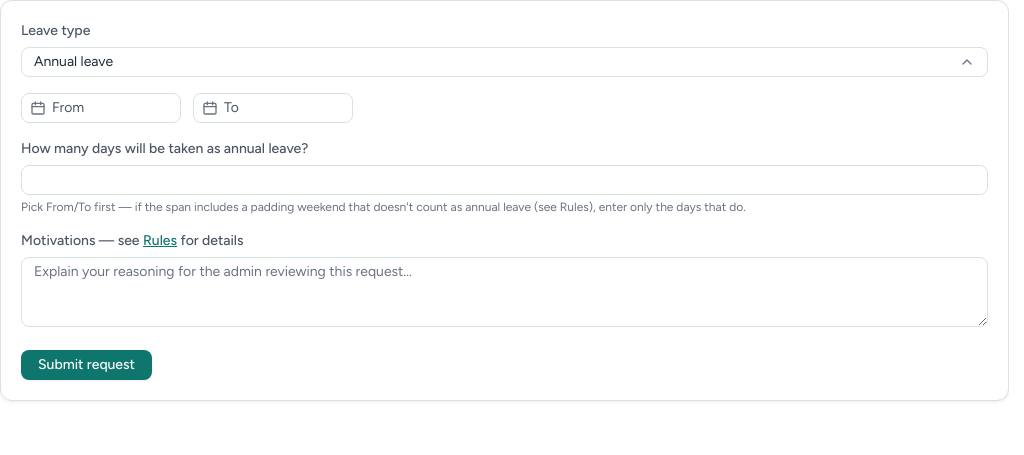
LeaveRequestForm › submits a normal annual leave request with the entered date range
Type "2026-08-10" into the date field labelled "From". click: {"x": 101, "y": 108}
box: [21,93,181,123]
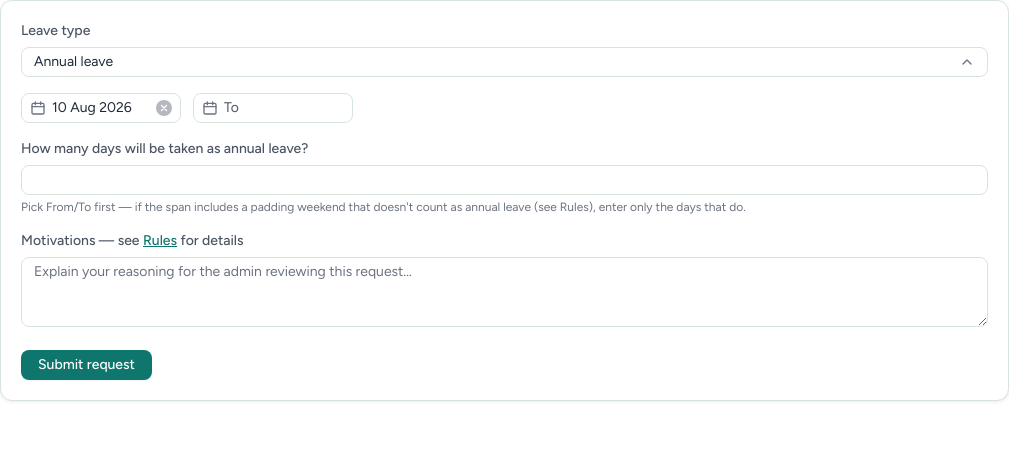
Type "2026-08-14" into the date field labelled "To". click: {"x": 273, "y": 108}
box: [193,93,353,123]
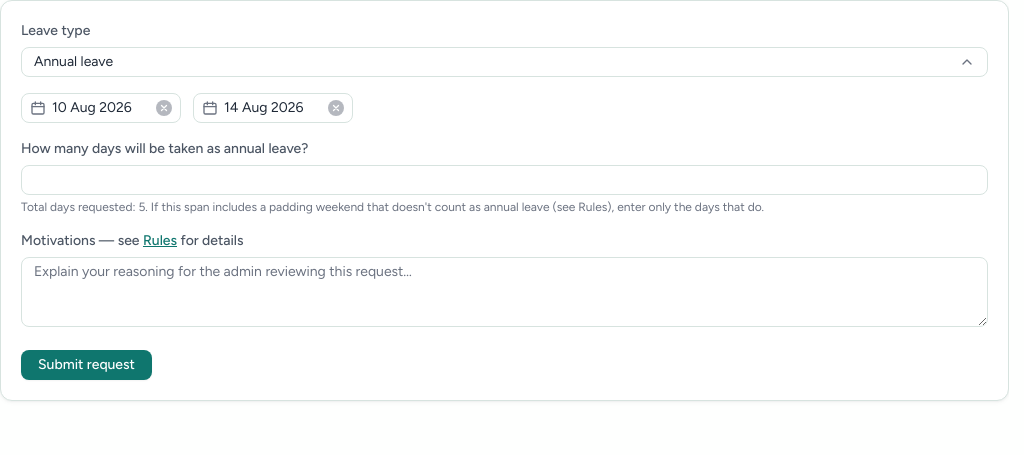
Type "5" into the number field labelled "How many days will be taken as annual leave?". click: {"x": 504, "y": 180}
box: [21,165,988,195]
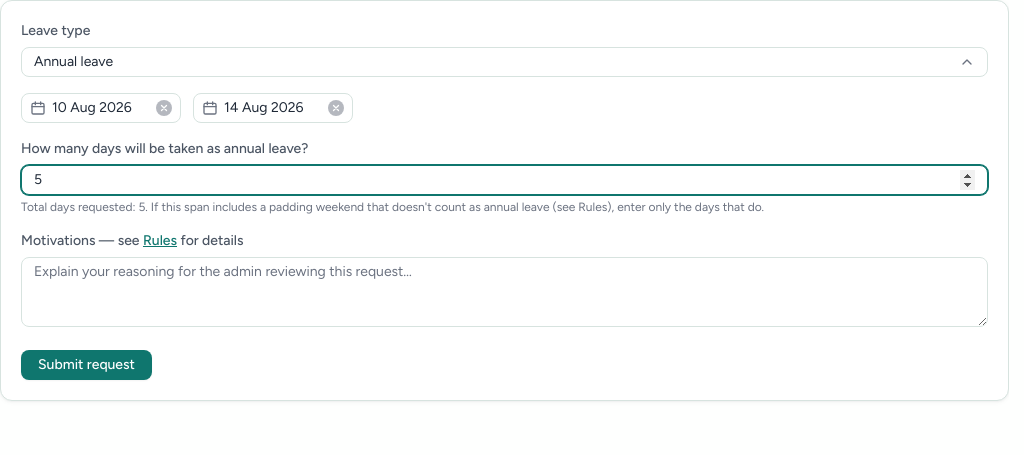
Click the button "Submit request". click: {"x": 86, "y": 365}
box: [21,350,152,380]
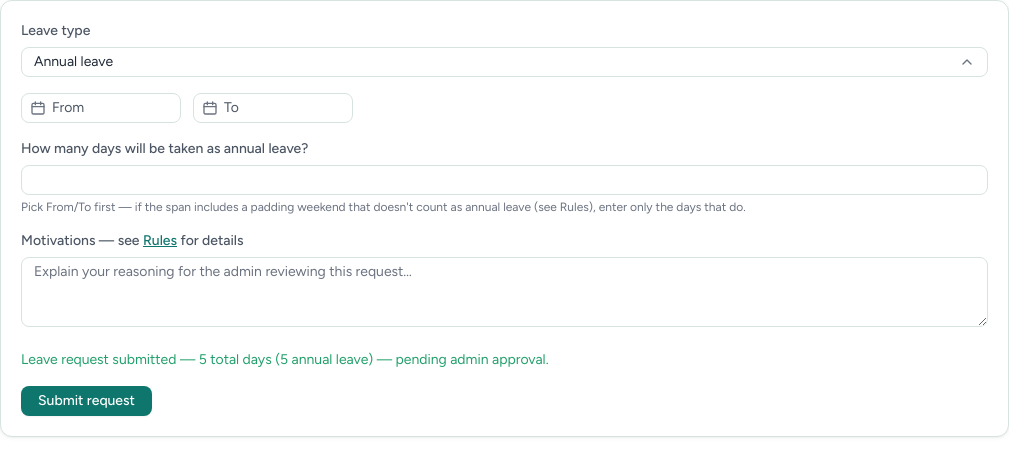
Expected: the text "5 total days (5 annual leave)" is shown, [21,351,549,368]
